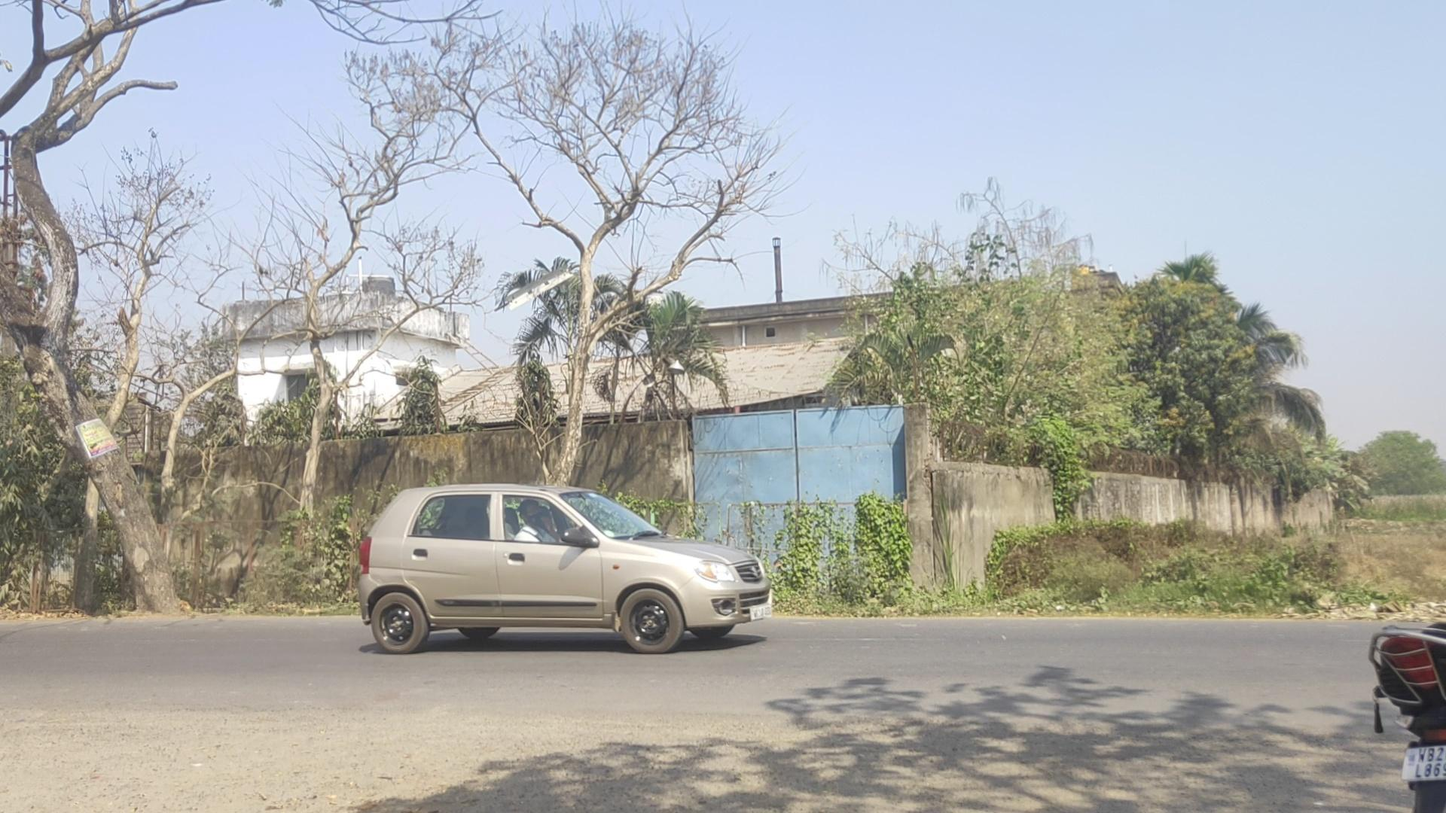car: (357, 484, 773, 655)
